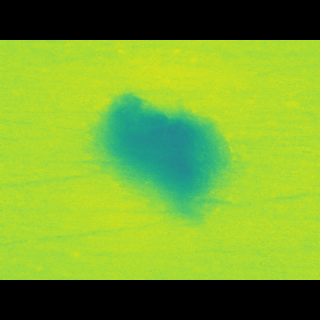Loch: (88, 104, 235, 205)
